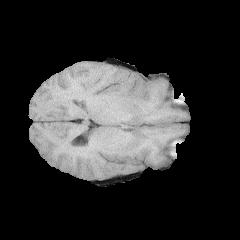glioma: (107, 75, 150, 105)
